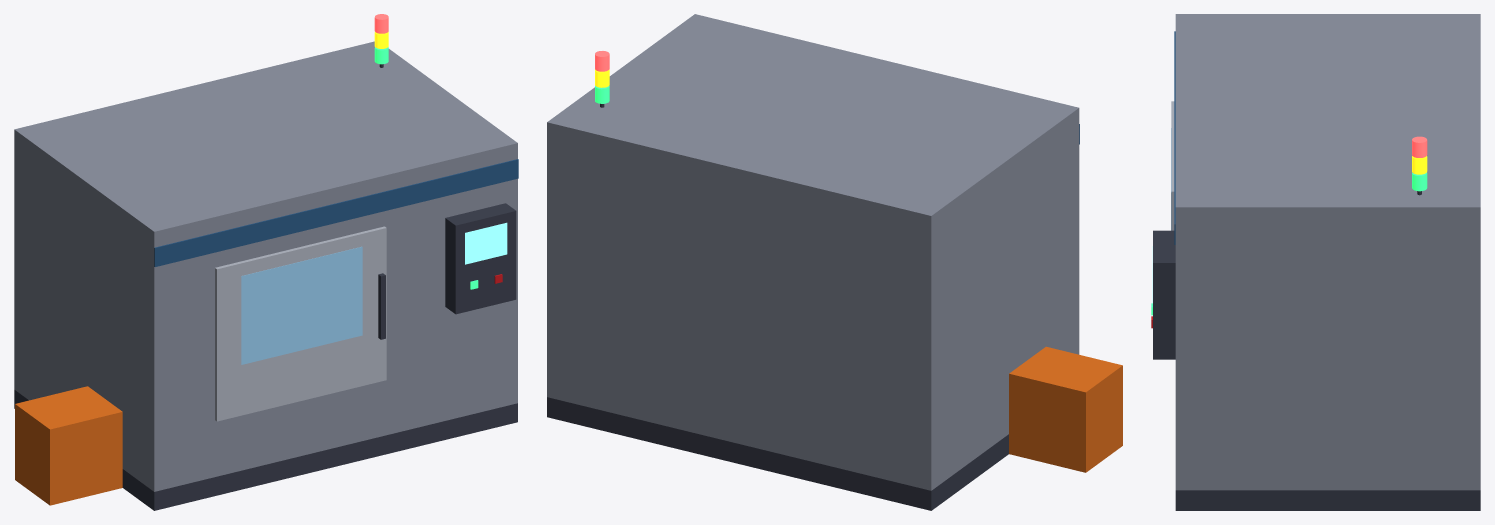
File: ind-008.glb
3 views of the same model, side by side, from view 1: azimuth 30°, elevation 25°; view 2: azimuth 150°, elevation 25°; view 3: azimuth 270°, elevation 25° (orthographic). The views are drawn at different scales.
Parts seen in each view (by area): view 1: locker_grey, steel, dark_steel, glass, robot_orange, machine_blue, pump_screen; view 2: locker_grey, robot_orange, dark_steel; view 3: locker_grey, dark_steel, steel, machine_blue.
Boxes of the visible parts, left/top/right/bottom form: locker_grey: left=14, top=41, right=517, bottom=491; steel: left=215, top=226, right=386, bottom=421; dark_steel: left=14, top=64, right=517, bottom=510; glass: left=241, top=246, right=362, bottom=364; robot_orange: left=15, top=386, right=122, bottom=505; machine_blue: left=154, top=159, right=518, bottom=266; pump_screen: left=465, top=222, right=507, bottom=264; locker_grey: left=547, top=14, right=1079, bottom=490; robot_orange: left=1009, top=346, right=1122, bottom=472; dark_steel: left=547, top=103, right=1008, bottom=510; locker_grey: left=1175, top=14, right=1480, bottom=490; dark_steel: left=1153, top=191, right=1480, bottom=510; steel: left=1171, top=101, right=1174, bottom=230; machine_blue: left=1174, top=31, right=1175, bottom=244.
Size of the model in its own units: 3.6 by 2.6 by 2.16.
